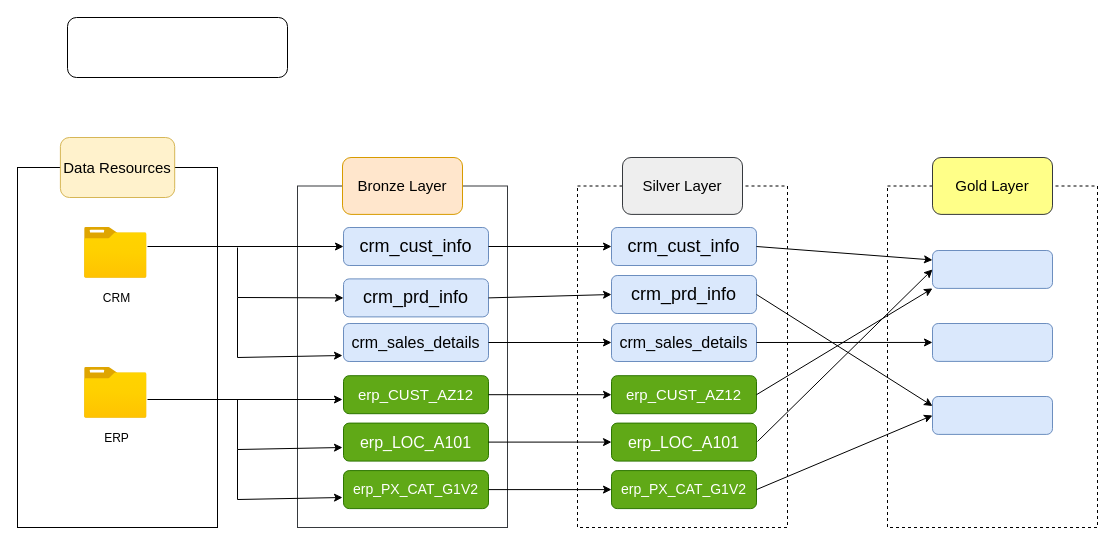
Some shapes in this 1115 by 545 pixel diagram are drawn without their labels. Here are the shapes that lost their labels. From the top down, the centre of each, then its label:
At (x=177, y=47): "Data Flow Diagram".
At (x=992, y=269): "dim_customers".
At (x=992, y=341): "fact_sales".
At (x=992, y=415): "dim_products".
